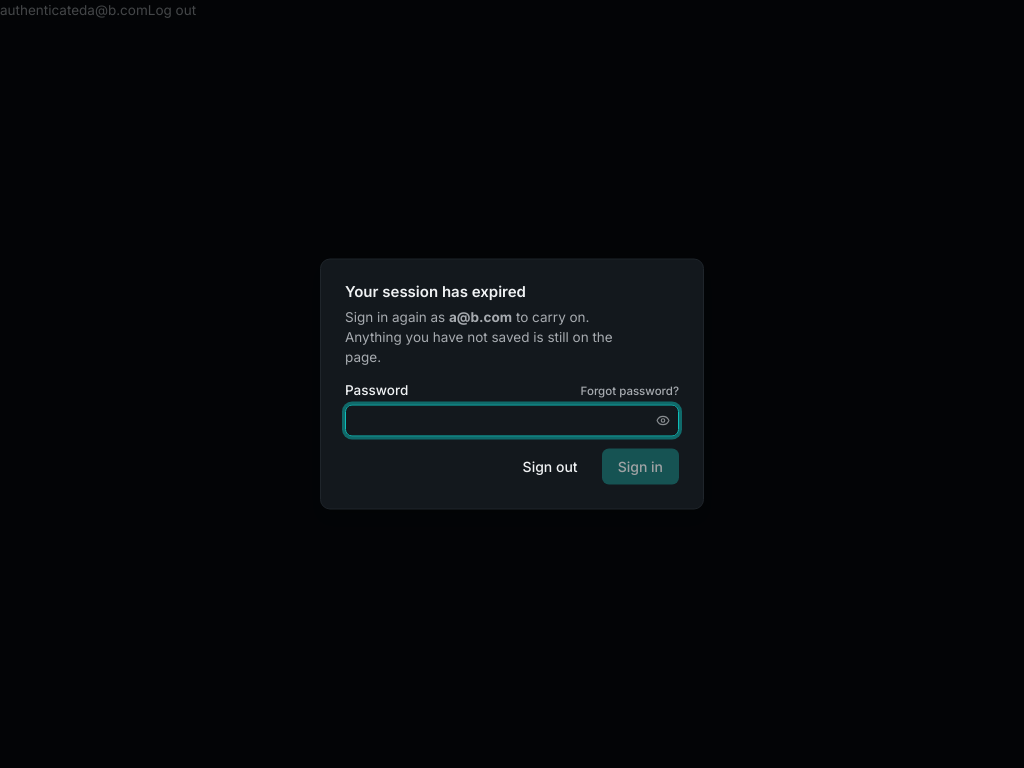
AuthProvider unauthorized event cycle › signs out from the expired-session dialog
The image size is (1024, 768).
expect the text with test id "status" reads "authenticated": met, box [0, 2, 87, 18]
Click the button "Sign out". click: (550, 466)
box: [507, 448, 594, 484]
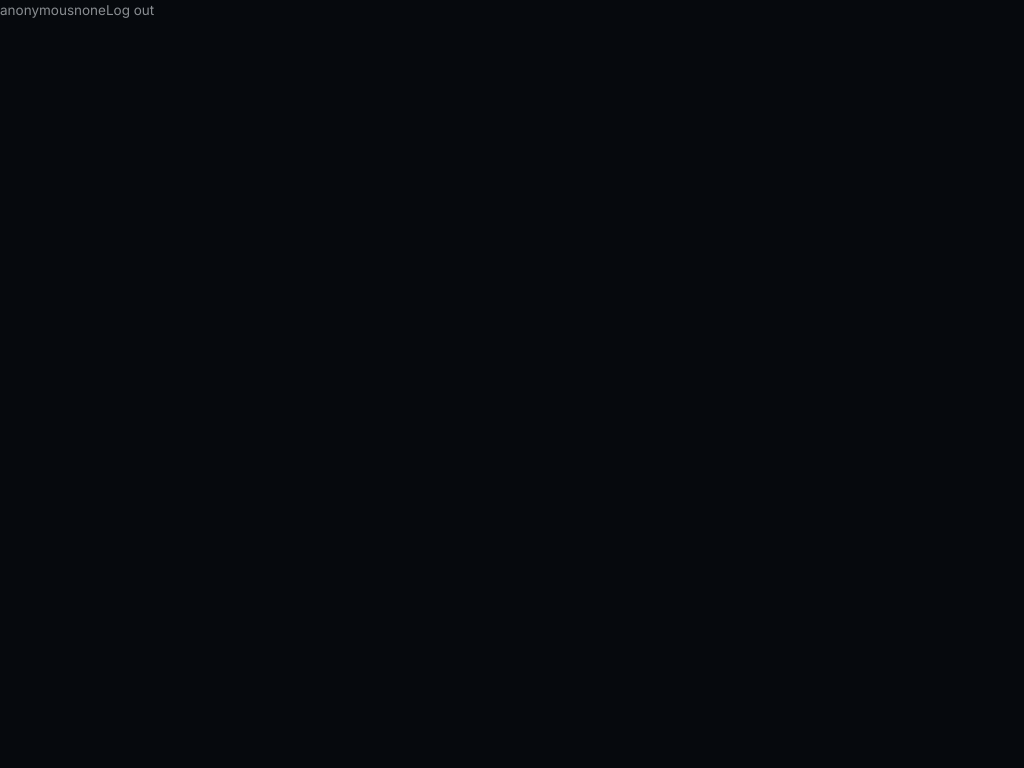
expect the text with test id "status" reads "anonymous": met, box [0, 2, 74, 18]
expect the text with test id "email" reads "none": met, box [74, 2, 106, 18]
expect the dialog is gone: met
